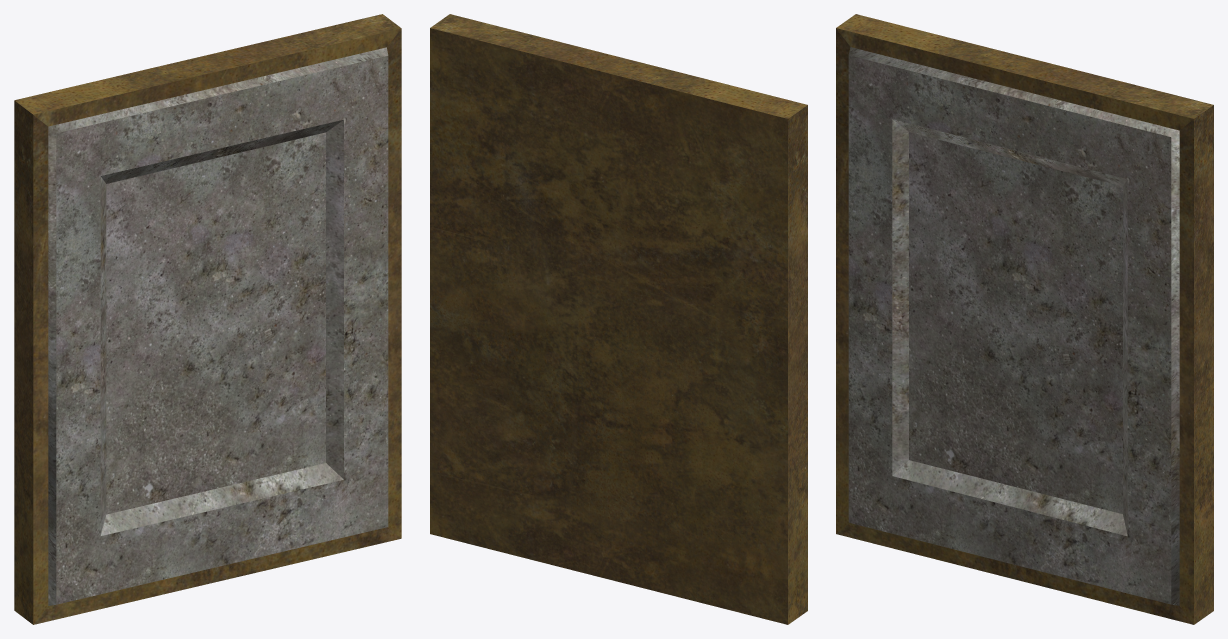
Rendered from mg_12__plate_6.fbx.
The picture shows the model from 3 angles, left to right: view 1: azimuth 30°, elevation 25°; view 2: azimuth 150°, elevation 25°; view 3: azimuth 330°, elevation 25°; orthographic projection.
Visible parts, largest first — view 1: mg_12__plate_6; view 2: mg_12__plate_6; view 3: mg_12__plate_6.
Boxes of the visible parts, bbox=[...] form: mg_12__plate_6: bbox=[14, 14, 401, 624]; mg_12__plate_6: bbox=[430, 14, 807, 624]; mg_12__plate_6: bbox=[836, 14, 1213, 624].
Bounding box in the file's own units: 26.43 × 35.28 × 3.51.
